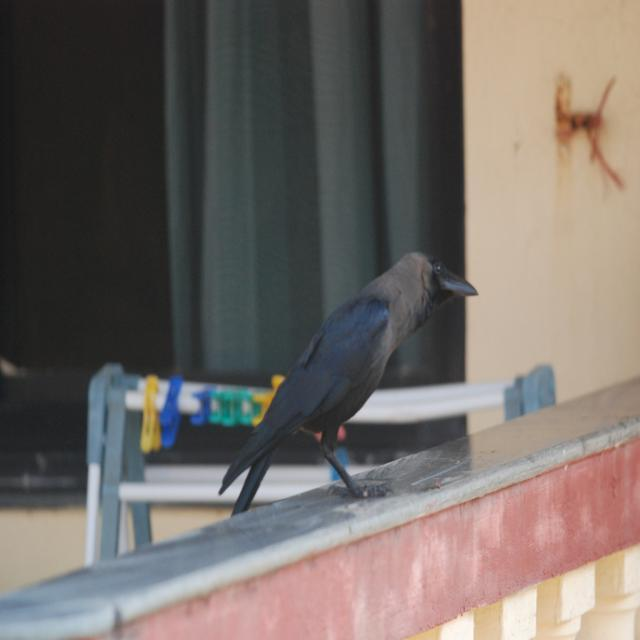bird: (212, 245, 484, 525)
